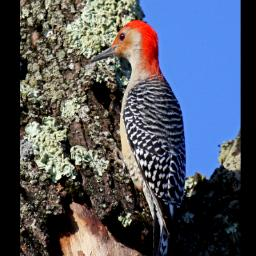Woodpecker: (90, 17, 188, 256)
